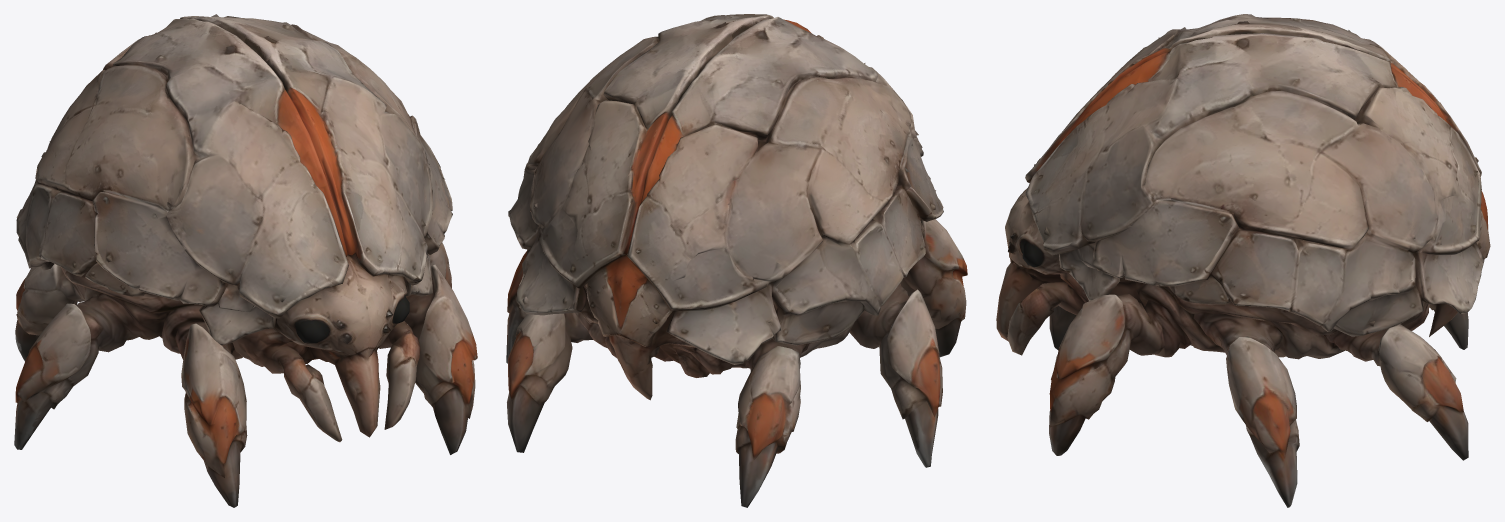
Rendered from crawler.glb.
3 renders of one model, left to right at view 1: azimuth 30°, elevation 25°; view 2: azimuth 150°, elevation 25°; view 3: azimuth 270°, elevation 25°, orthographic.
Visible parts, largest first — view 1: tripo_node_b18f828d-01e7-4ff9-a8f3-fe727547e025; view 2: tripo_node_b18f828d-01e7-4ff9-a8f3-fe727547e025; view 3: tripo_node_b18f828d-01e7-4ff9-a8f3-fe727547e025.
Part boxes in pixels (x1=…): tripo_node_b18f828d-01e7-4ff9-a8f3-fe727547e025: x1=14, y1=14, x2=477, y2=507; tripo_node_b18f828d-01e7-4ff9-a8f3-fe727547e025: x1=506, y1=14, x2=967, y2=507; tripo_node_b18f828d-01e7-4ff9-a8f3-fe727547e025: x1=996, y1=14, x2=1490, y2=507.
Bounding box in the file's own units: 0.9796 × 0.8132 × 0.9688.
Materials: 1 (1 with a texture image).
